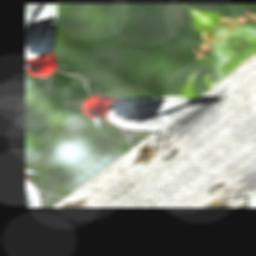Woodpecker: (72, 44, 230, 160)
